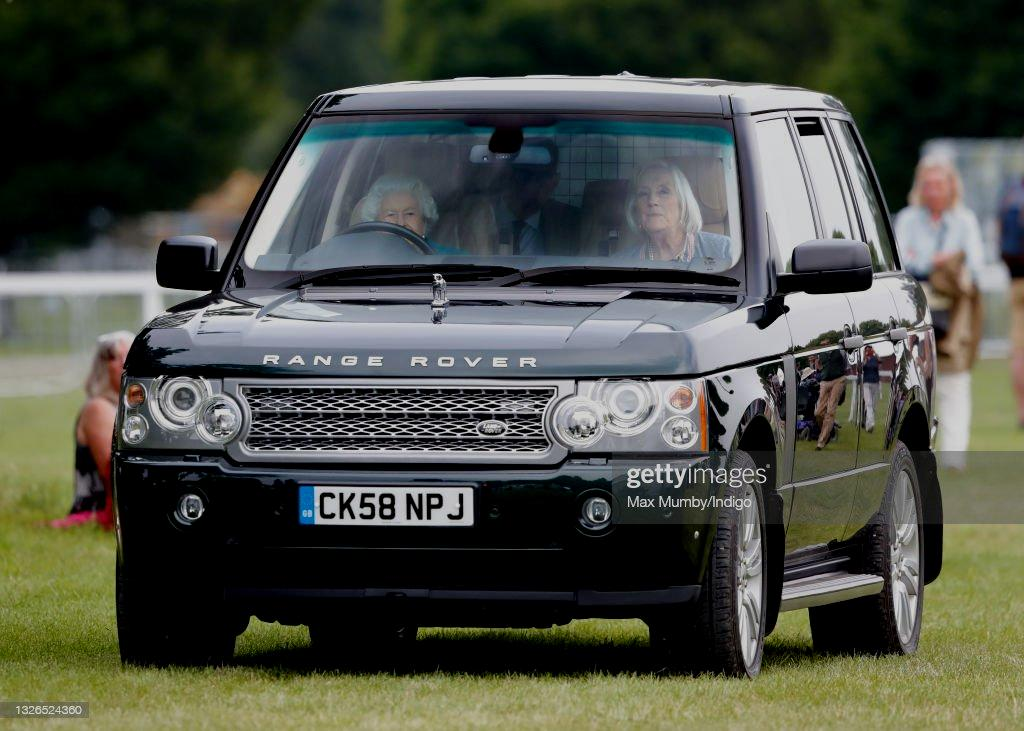range rover: (253, 343, 552, 382)
